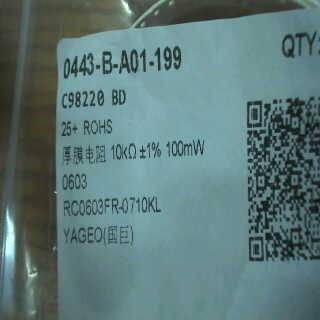10kR: (108, 141, 138, 161)
